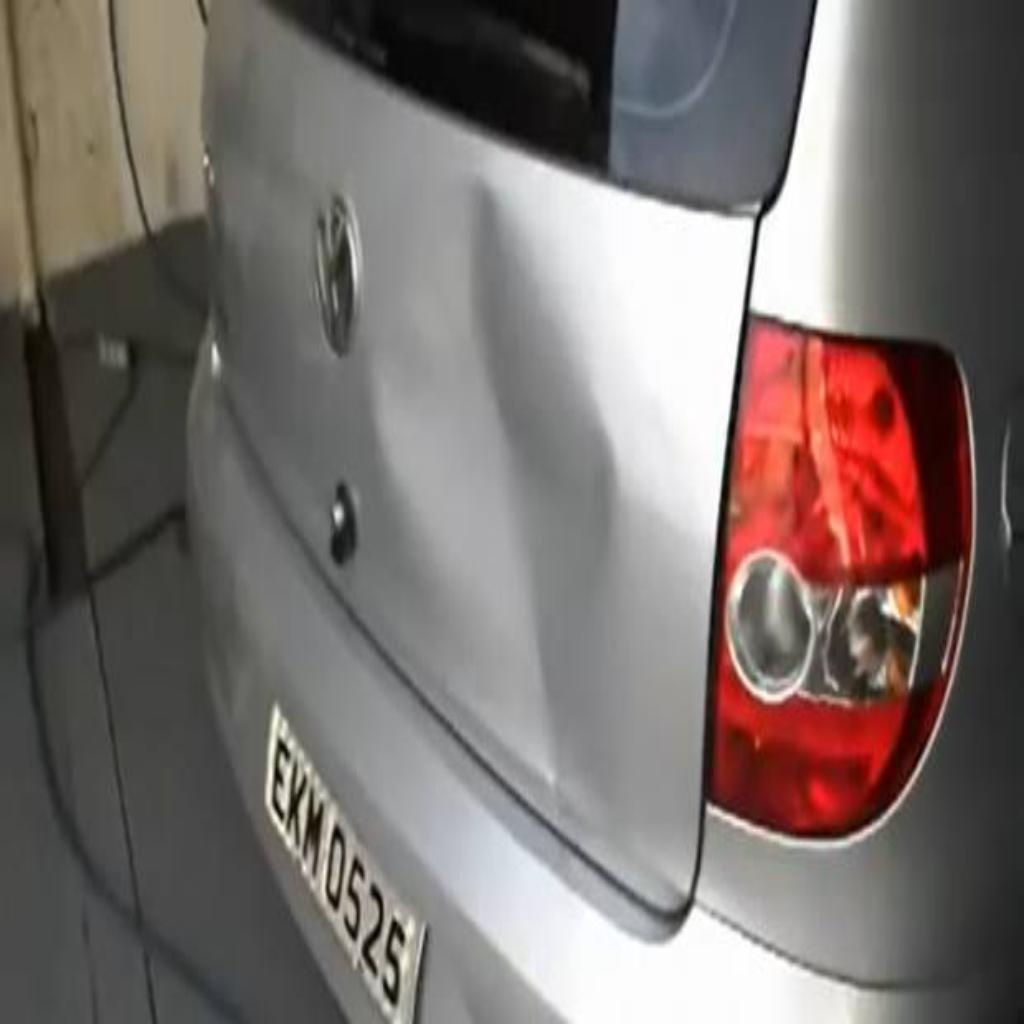Dent: (368, 180, 624, 802)
